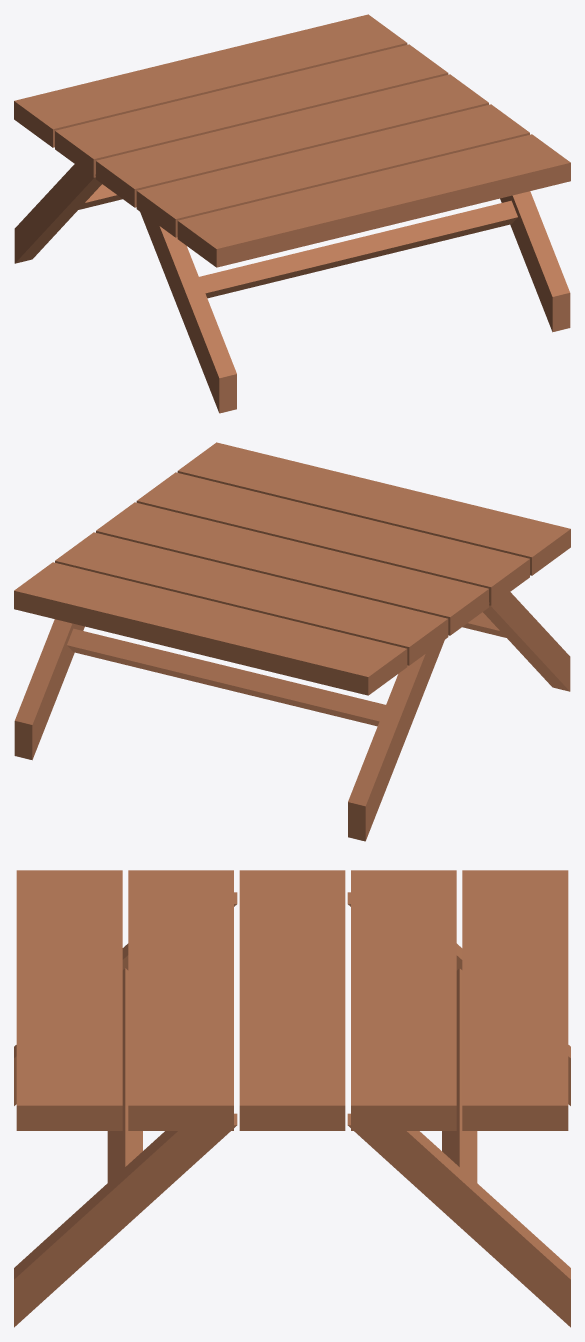
File: MiniBridge.gltf
The picture shows the model from 3 angles, top to bottom: view 1: azimuth 30°, elevation 25°; view 2: azimuth 150°, elevation 25°; view 3: azimuth 270°, elevation 25°; orthographic projection. The views are drawn at different scales.
Visible parts, largest first — view 1: Cube; view 2: Cube; view 3: Cube.
Boxes of the visible parts, box(x1,y1,x2,y2) form: Cube: box(14, 14, 570, 413); Cube: box(14, 442, 570, 841); Cube: box(14, 870, 570, 1327).
Size of the model in its own units: 1 by 0.4425 by 1.
1 material, 1 textured.
